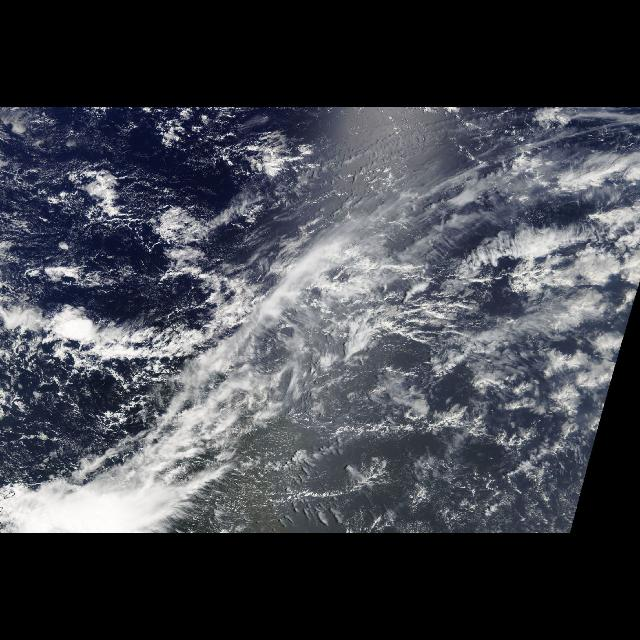Fish: (3, 282, 246, 378)
